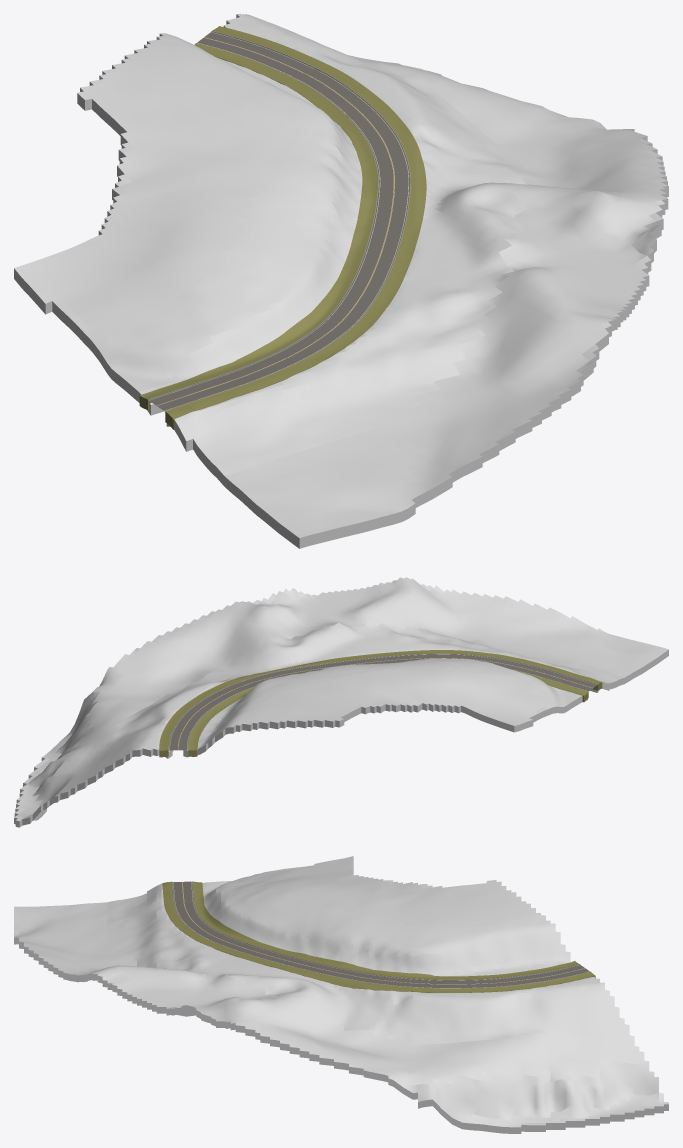
The model's file is conz_83.glb.
3 views of the same model, one above another, from view 1: azimuth 30°, elevation 25°; view 2: azimuth 150°, elevation 25°; view 3: azimuth 270°, elevation 25° (orthographic). The views are drawn at different scales.
Parts seen in each view (by area): view 1: terrain83, road83, verge83L, verge83R, paint_white83, paint_yellow83, kerb83_80228; view 2: terrain83, road83, verge83L, verge83R, kerb83_80228; view 3: terrain83, road83, verge83L, verge83R, kerb83_80186.
Boxes of the visible parts, <box> form: terrain83: <box>14,14,668,548</box>; road83: <box>148,31,410,411</box>; verge83L: <box>165,26,426,429</box>; verge83R: <box>139,43,377,410</box>; paint_white83: <box>149,32,408,410</box>; paint_yellow83: <box>157,37,394,405</box>; kerb83_80228: <box>165,31,410,411</box>; terrain83: <box>14,577,668,827</box>; road83: <box>169,654,597,750</box>; verge83L: <box>159,650,602,757</box>; verge83R: <box>188,671,588,756</box>; kerb83_80228: <box>168,653,597,749</box>; terrain83: <box>14,856,668,1133</box>; road83: <box>172,881,589,988</box>; verge83L: <box>162,881,595,992</box>; verge83R: <box>192,881,579,979</box>; kerb83_80186: <box>192,881,579,980</box>.
Bounding box in the file's own units: 192 × 48.77 × 266.
